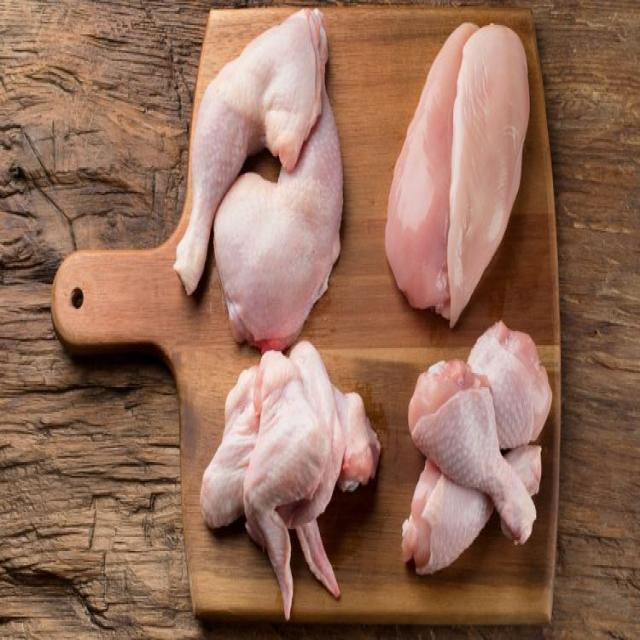chicken: (172, 8, 343, 341), (206, 352, 375, 612), (182, 13, 322, 291), (406, 330, 544, 570), (387, 19, 492, 310), (224, 88, 342, 343), (449, 27, 531, 318), (407, 361, 534, 544)
